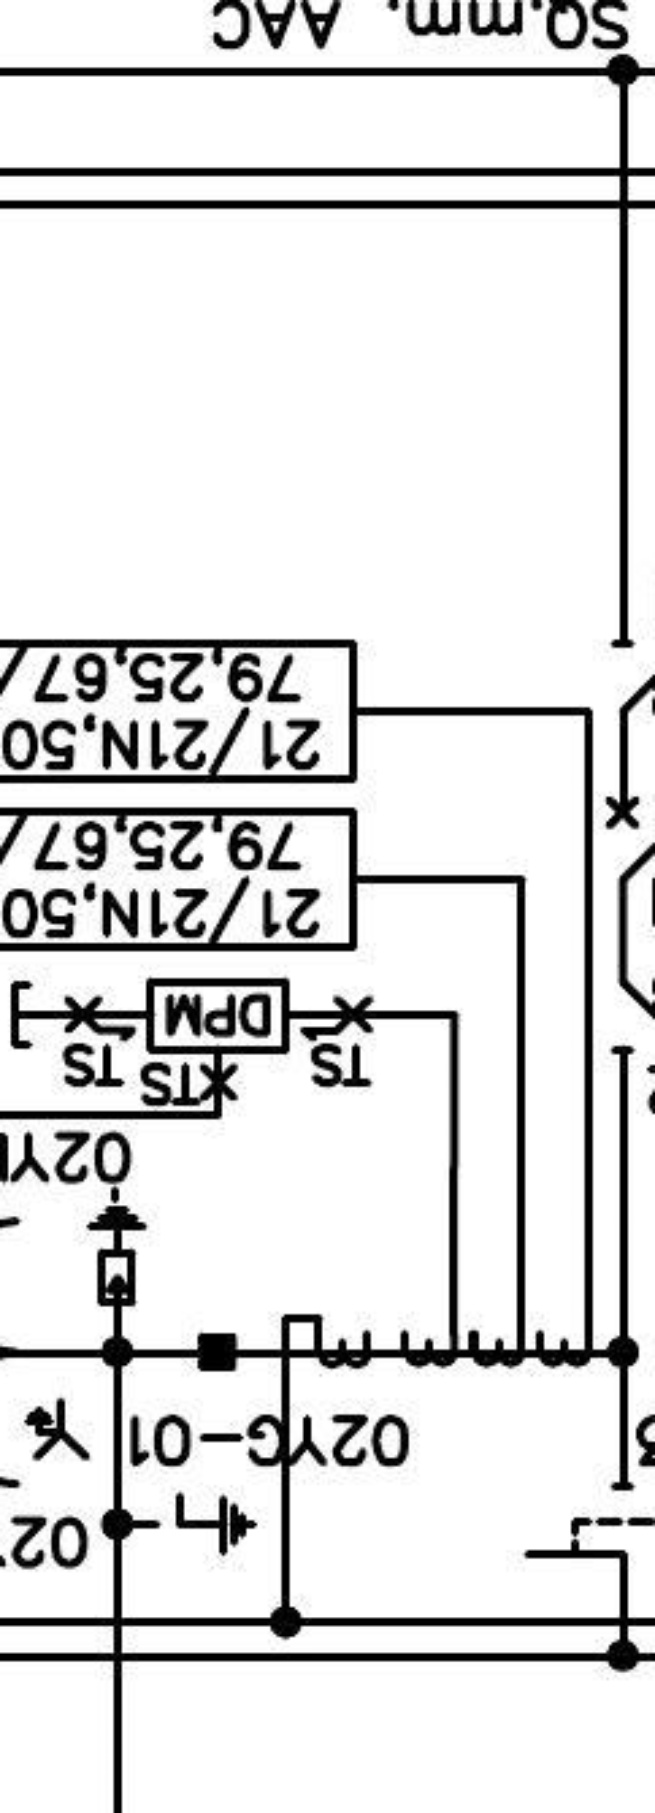115_gs: (149, 1490, 260, 1559)
115_la: (85, 1184, 151, 1308)
DPM: (148, 977, 293, 1055)
